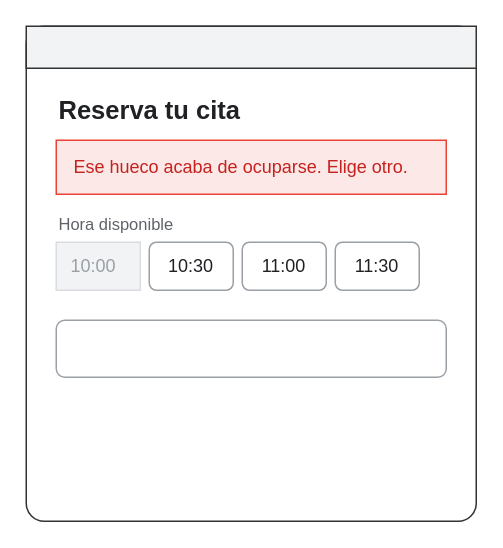
This 503x548 diagram has some shape labels left out. The centre of each missing label's shape, as x and y in pixels:
barberia-paco.tuplataforma.com: [250,46]
Ver otros huecos: [250,348]
